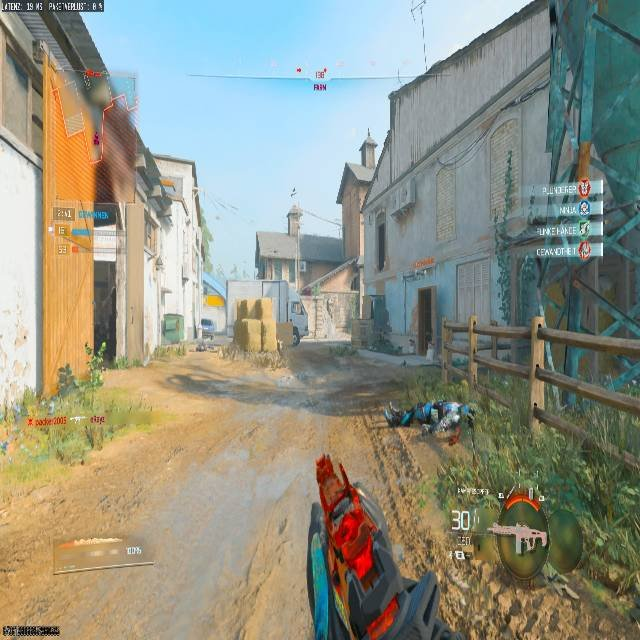head: (384, 406, 404, 426)
